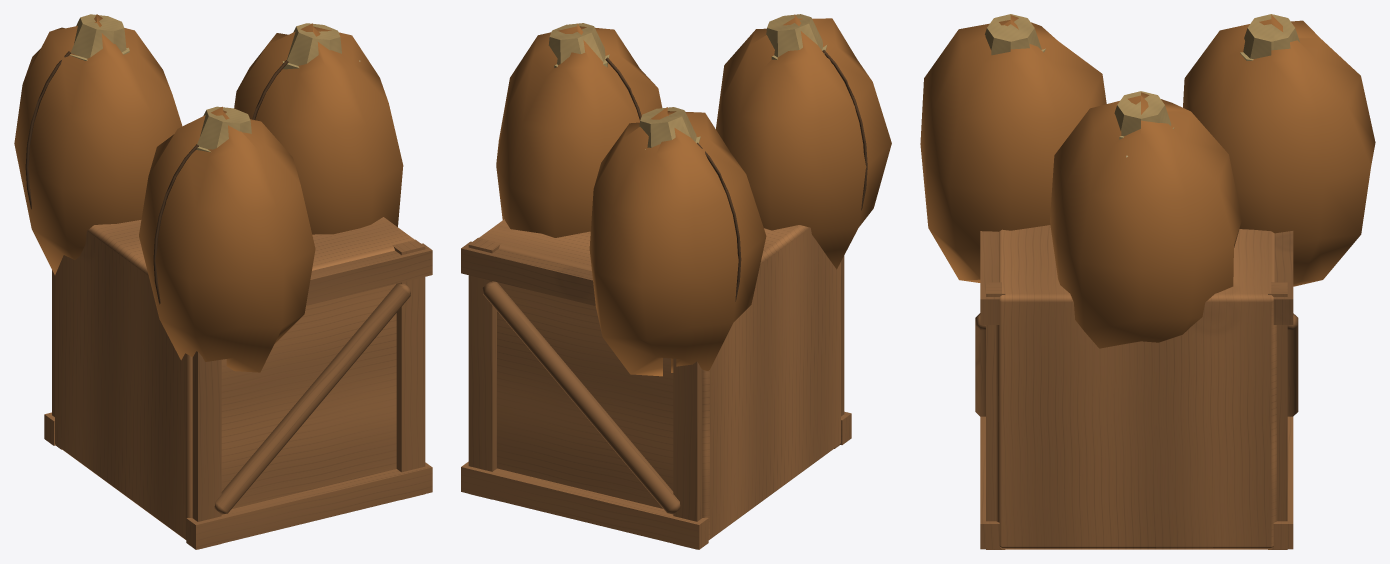
File: cargo_nutmeg.glb
3 renders of one model, left to right at view 1: azimuth 30°, elevation 25°; view 2: azimuth 150°, elevation 25°; view 3: azimuth 270°, elevation 25°, orthographic. The views are drawn at different scales.
Visible parts, largest first — view 1: Solid_Ref_Nutmeg, Solid_Ref_D19_Deck, Solid_Ref_D19_Wood, Solid_Ref_Sack, Solid_Ref_D19_Beam; view 2: Solid_Ref_Nutmeg, Solid_Ref_D19_Deck, Solid_Ref_D19_Wood, Solid_Ref_Sack, Solid_Ref_D19_Beam; view 3: Solid_Ref_Nutmeg, Solid_Ref_D19_Deck, Solid_Ref_D19_Wood, Solid_Ref_Sack.
Boxes of the visible parts, x1,y1,x2,y2 form: Solid_Ref_Nutmeg: (14, 14, 403, 372); Solid_Ref_D19_Deck: (55, 217, 415, 539); Solid_Ref_D19_Wood: (44, 239, 432, 549); Solid_Ref_Sack: (71, 14, 341, 149); Solid_Ref_D19_Beam: (25, 51, 288, 304); Solid_Ref_Nutmeg: (496, 14, 891, 376); Solid_Ref_D19_Deck: (478, 219, 840, 539); Solid_Ref_D19_Wood: (461, 237, 851, 549); Solid_Ref_Sack: (548, 14, 822, 147); Solid_Ref_D19_Beam: (605, 50, 867, 301); Solid_Ref_Nutmeg: (920, 15, 1375, 348); Solid_Ref_D19_Deck: (996, 225, 1276, 549); Solid_Ref_D19_Wood: (975, 231, 1298, 549); Solid_Ref_Sack: (985, 14, 1299, 136).
Bounding box in the file's own units: 0.8324 × 1.12 × 1.05.
7 materials, 4 textured.
